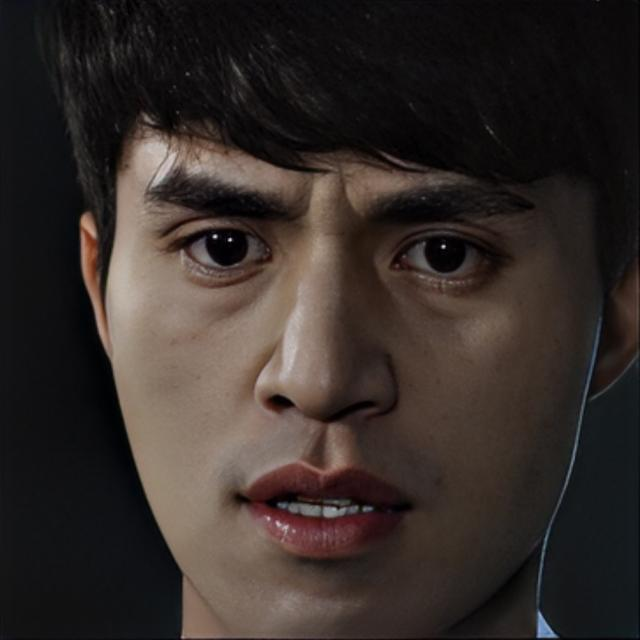anger: (107, 48, 598, 635)
